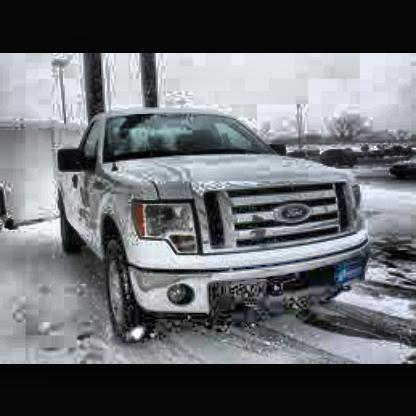Ford F-150 Regular Cab 2012: (59, 106, 370, 343)
